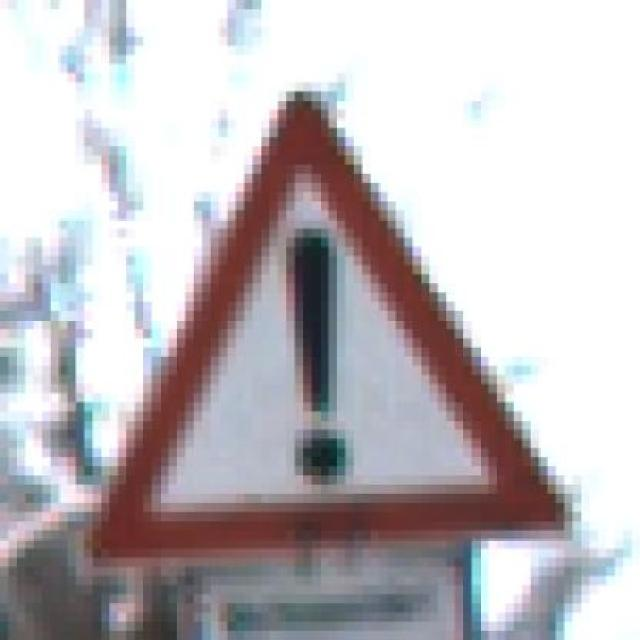Attention Please-: (84, 55, 590, 567)
